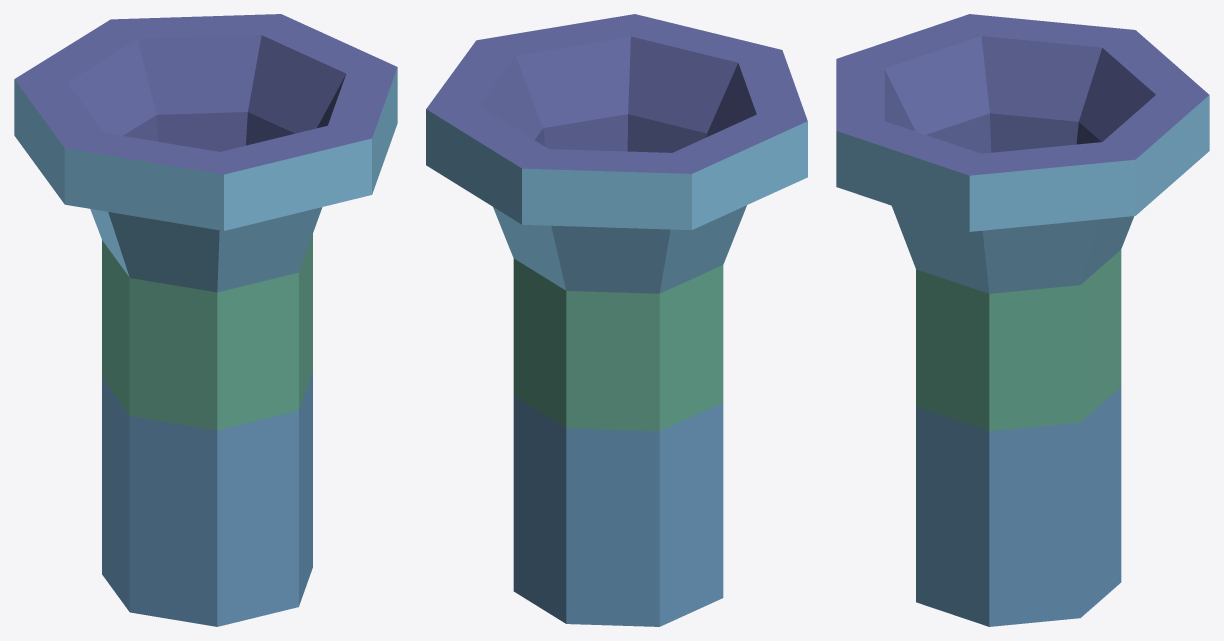
3 renders of one model, left to right at view 1: azimuth 30°, elevation 25°; view 2: azimuth 150°, elevation 25°; view 3: azimuth 270°, elevation 25°, orthographic.
Visible parts, largest first — view 1: Cylinder; view 2: Cylinder; view 3: Cylinder.
Boxes of the visible parts, bbox=[...] form: Cylinder: bbox=[14, 14, 397, 626]; Cylinder: bbox=[426, 14, 807, 626]; Cylinder: bbox=[836, 14, 1209, 626].
Bounding box in the file's own units: 355 × 499 × 346.
1 material, 1 textured.
